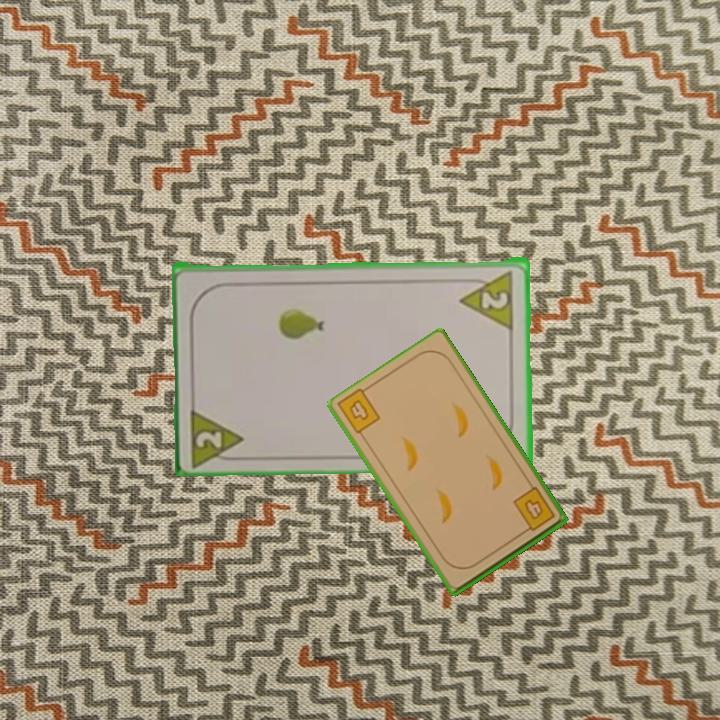2p: (187, 401, 249, 466), (457, 266, 517, 329)
4b: (509, 484, 558, 537), (345, 396, 371, 424)
